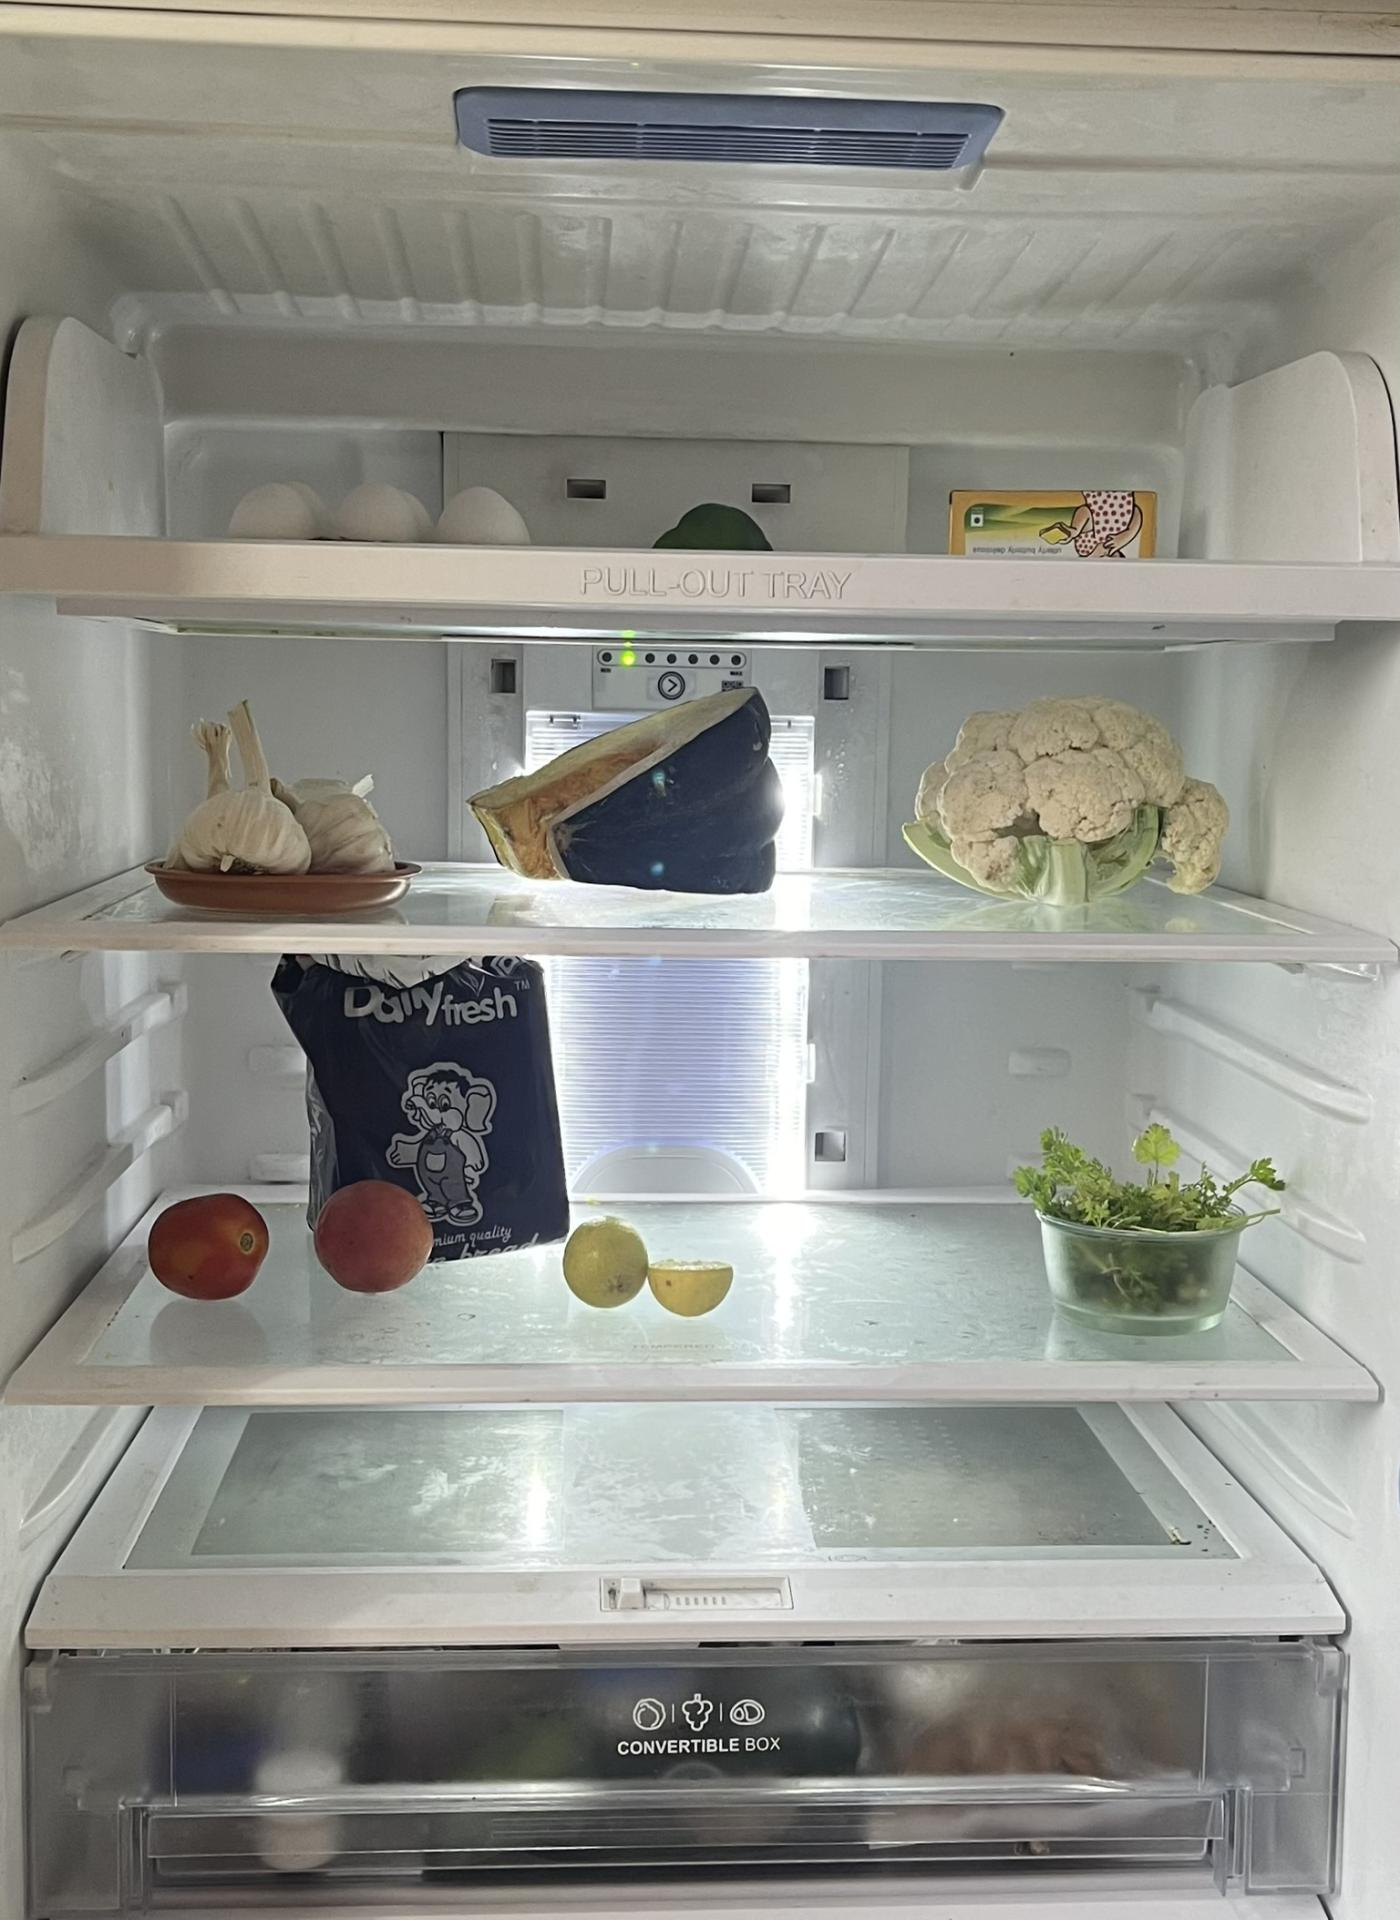bread: (277, 953, 568, 1260)
butter: (945, 484, 1157, 553)
capsicum: (644, 490, 775, 553)
cauliflower: (911, 698, 1224, 903)
coriander: (1027, 1131, 1264, 1322)
egg: (213, 476, 541, 544)
garlic: (176, 704, 392, 869)
lemon: (565, 1212, 732, 1315)
pumpkin: (474, 684, 787, 894)
tomato: (149, 1194, 270, 1309), (316, 1188, 434, 1291)
